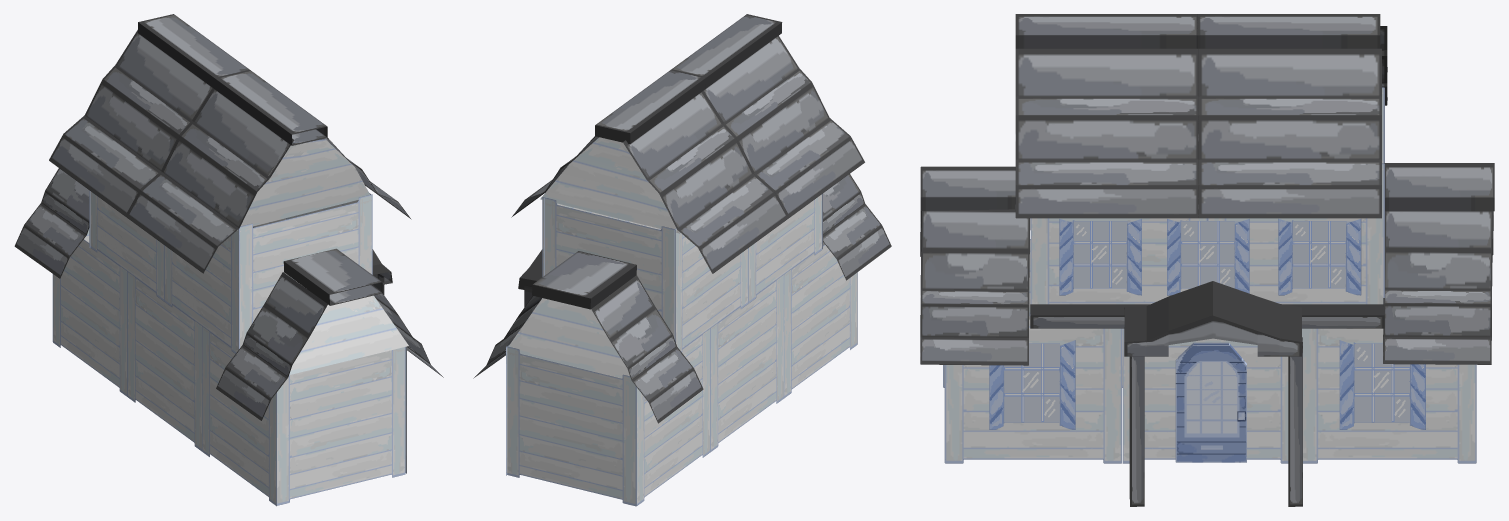
File: Player_House.fbx
The picture shows the model from 3 angles, left to right: view 1: azimuth 30°, elevation 25°; view 2: azimuth 150°, elevation 25°; view 3: azimuth 270°, elevation 25°; orthographic projection. The views are drawn at different scales.
Parts seen in each view (by area): view 1: Plane.005, Plane.023, Plane.022, Plane.008, Plane.012, Plane.007, Plane.026, Plane.009, Plane.035, Plane.011, Plane.031, Plane.027 (+6 smaller); view 2: Plane.006, Plane.023, Plane.022, Plane.008, Plane.009, Plane.013, Plane.027, Plane.007, Plane.033, Plane.010, Plane.032, Plane.026 (+7 smaller); view 3: Plane.020, Plane.021, Plane.025, Plane.034, Plane.001, Plane.002, Plane.040, Plane, Plane.014, Plane.028, Plane.029, Plane.003 (+12 smaller).
Boxes of the visible parts, x1=… form: Plane.005: x1=276, y1=347, x2=405, y2=505; Plane.023: x1=49, y1=30, x2=213, y2=216; Plane.022: x1=126, y1=89, x2=293, y2=273; Plane.008: x1=127, y1=272, x2=202, y2=451; Plane.012: x1=239, y1=194, x2=372, y2=348; Plane.007: x1=53, y1=239, x2=127, y2=396; Plane.026: x1=216, y1=272, x2=327, y2=420; Plane.009: x1=202, y1=326, x2=276, y2=506; Plane.035: x1=237, y1=139, x2=369, y2=230; Plane.011: x1=164, y1=229, x2=238, y2=353; Plane.031: x1=289, y1=295, x2=408, y2=374; Plane.027: x1=14, y1=168, x2=89, y2=278; Plane.006: x1=506, y1=346, x2=636, y2=506; Plane.023: x1=623, y1=91, x2=788, y2=273; Plane.022: x1=702, y1=35, x2=864, y2=217; Plane.008: x1=710, y1=275, x2=783, y2=452; Plane.009: x1=784, y1=244, x2=857, y2=398; Plane.013: x1=542, y1=197, x2=675, y2=342; Plane.027: x1=591, y1=275, x2=703, y2=423; Plane.007: x1=636, y1=329, x2=710, y2=505; Plane.033: x1=540, y1=137, x2=679, y2=233; Plane.010: x1=674, y1=228, x2=748, y2=352; Plane.032: x1=505, y1=298, x2=629, y2=378; Plane.026: x1=823, y1=174, x2=891, y2=280; Plane.020: x1=1015, y1=48, x2=1198, y2=218; Plane.021: x1=1198, y1=48, x2=1381, y2=218; Plane.025: x1=920, y1=209, x2=1030, y2=365; Plane.034: x1=1383, y1=211, x2=1493, y2=364; Plane.001: x1=944, y1=314, x2=1121, y2=463; Plane.002: x1=1302, y1=328, x2=1476, y2=463; Plane.040: x1=1124, y1=281, x2=1301, y2=356; Plane: x1=1122, y1=328, x2=1288, y2=463; Plane.014: x1=1175, y1=342, x2=1246, y2=462; Plane.028: x1=1197, y1=14, x2=1380, y2=48; Plane.029: x1=1015, y1=14, x2=1198, y2=48; Plane.003: x1=1030, y1=218, x2=1207, y2=304.
Size of the model in its own units: 342 by 488 by 617.
41 materials, 41 textured.
